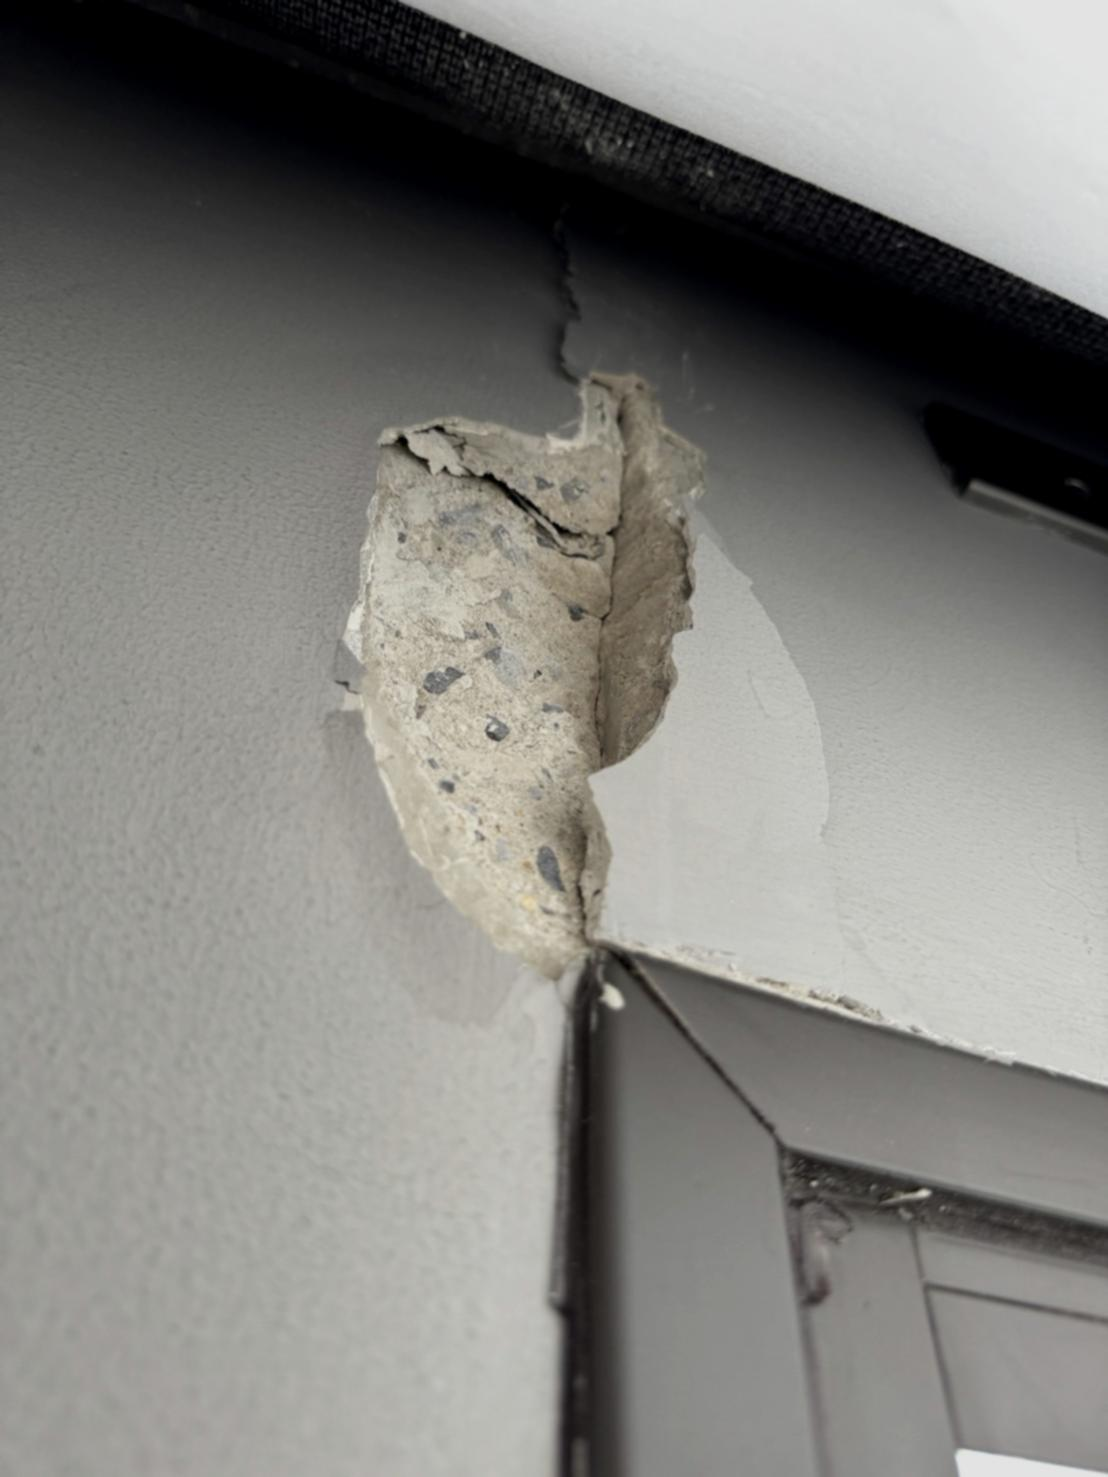High: (292, 311, 840, 1006)
